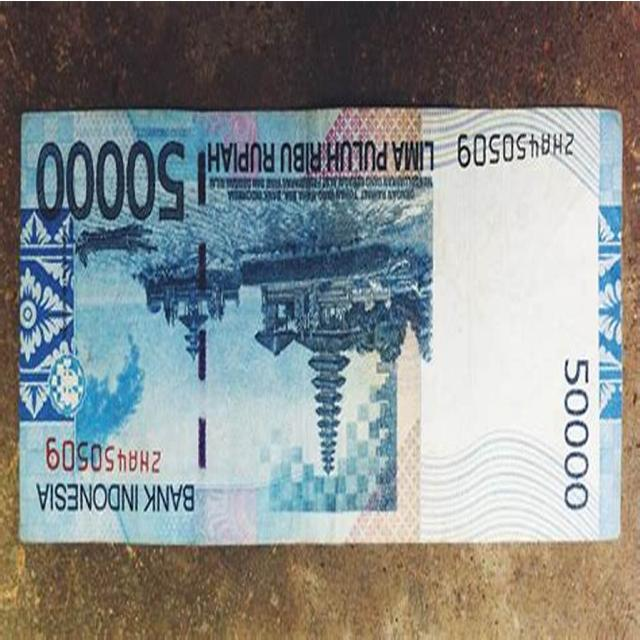lima puluh ribu rupiah: (19, 109, 622, 544)
